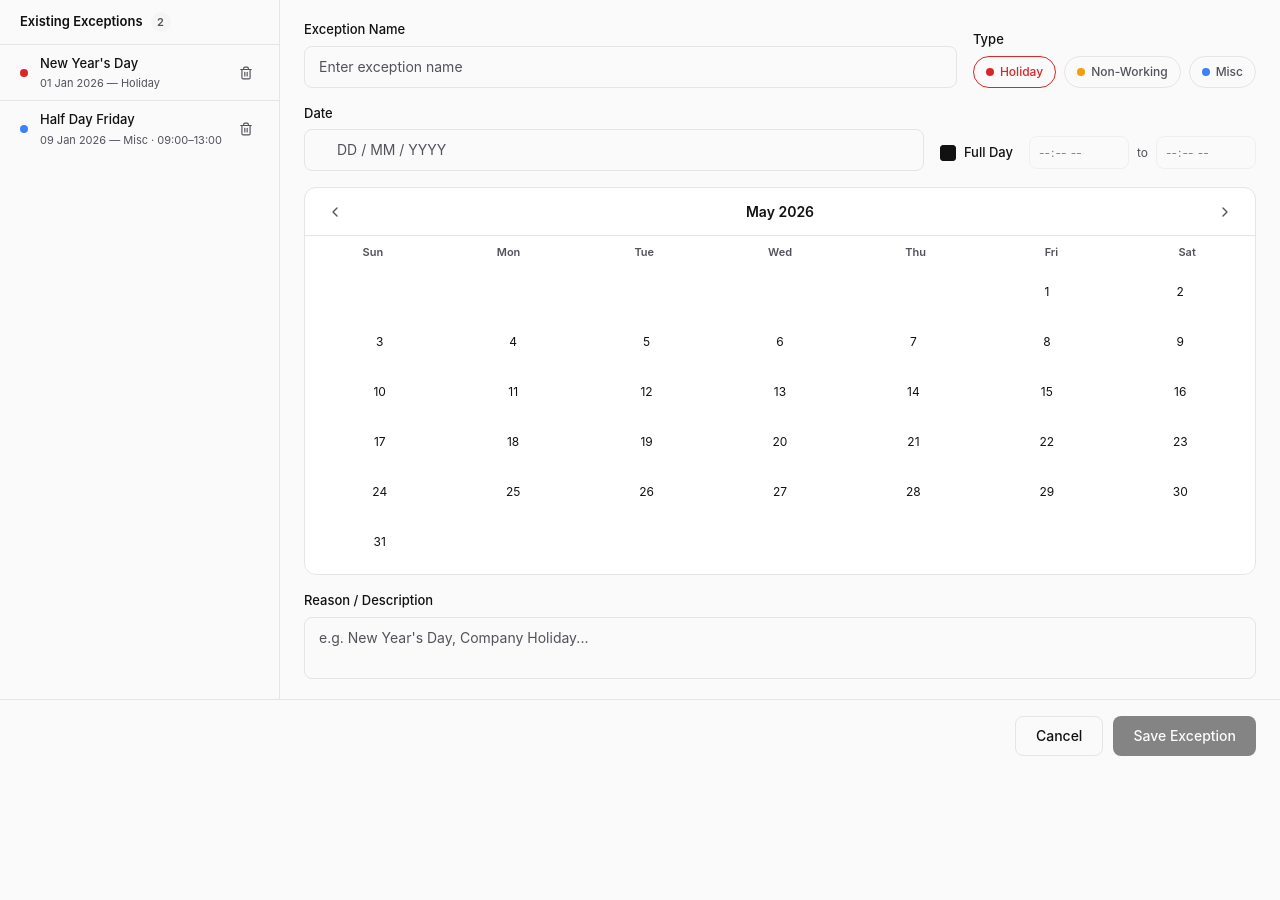
Test: ExceptionEditorContent › opens delete confirmation when clicking trash icon
The width and height of the screenshot is (1280, 900).
Click the button named "Delete New Year's Day" at (246, 72), box top-left (233, 60), bottom-right (259, 86)
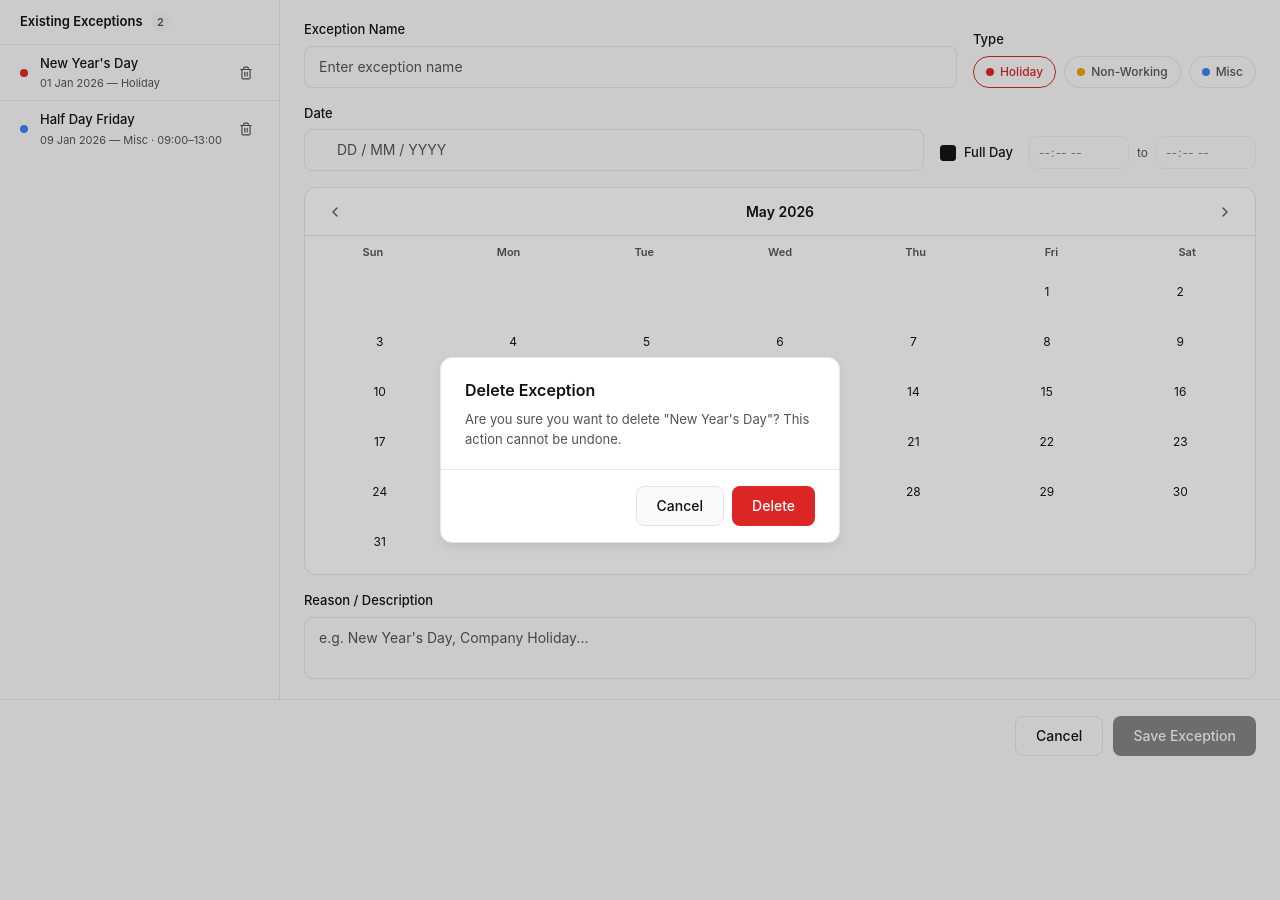
Now the heading "Delete Exception" is shown, box top-left (465, 380), bottom-right (595, 400)
